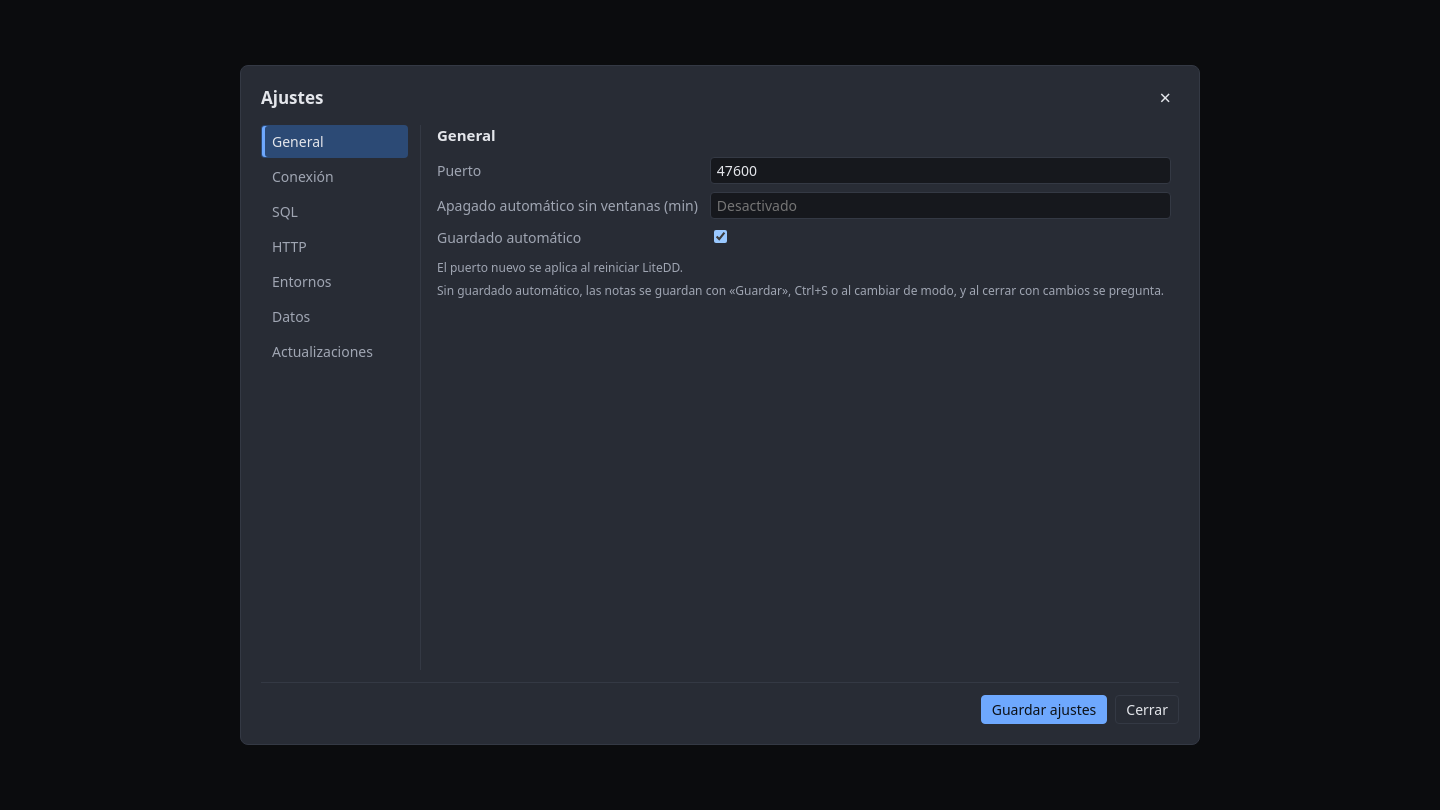
Test: C-01 a C-11 «Conexión» › C-01 tiene método fijo, host, puerto, usuario, contraseña, esquema y parámetros
Click the tab "Conexión": x=334, y=176 [261,160,408,193]
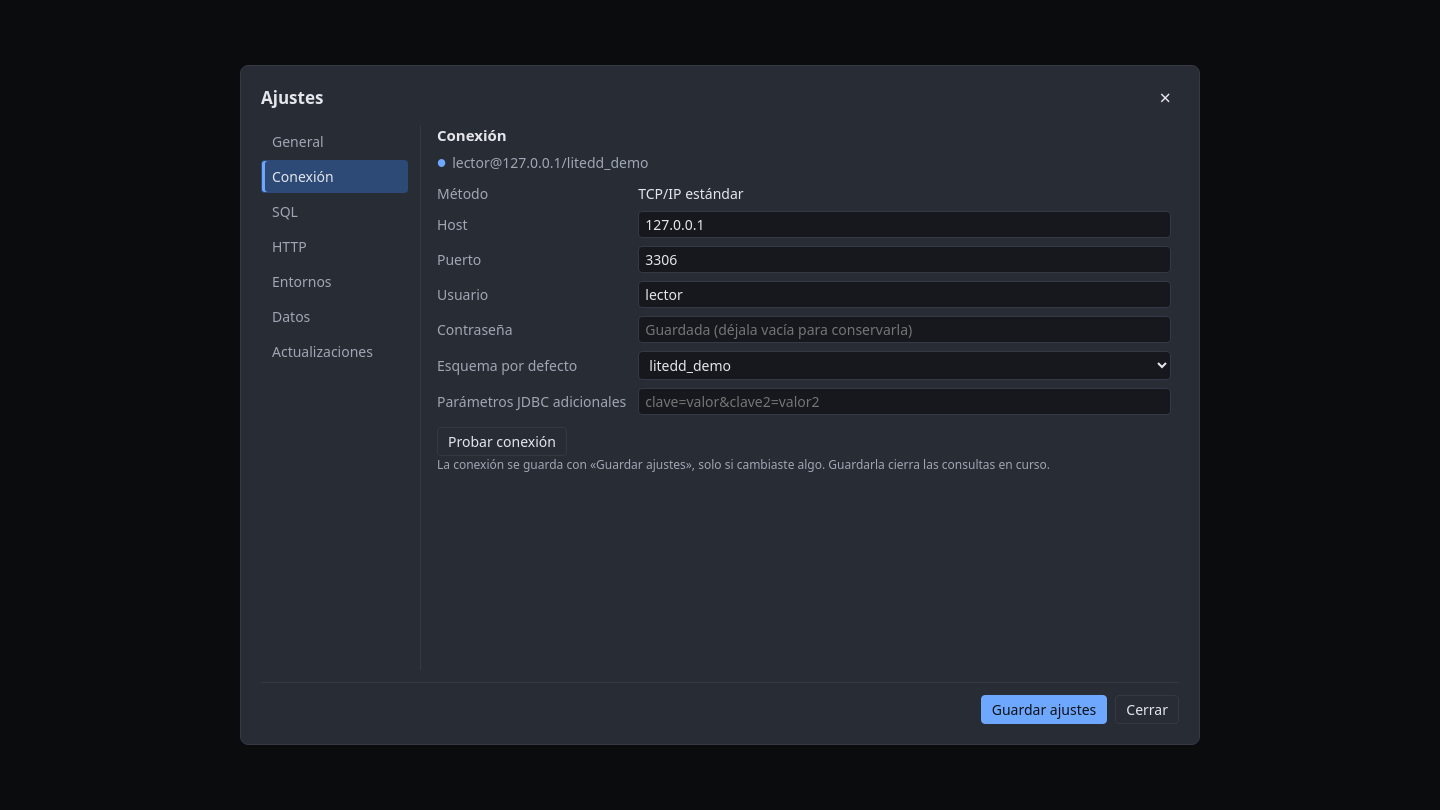
Now the field labelled "Usuario" holds "lector", box [638,281,1171,308]
Now the text "TCP/IP estándar" is shown, box [638,184,744,203]
Now the field labelled "Host" is shown, box [638,211,1171,238]
